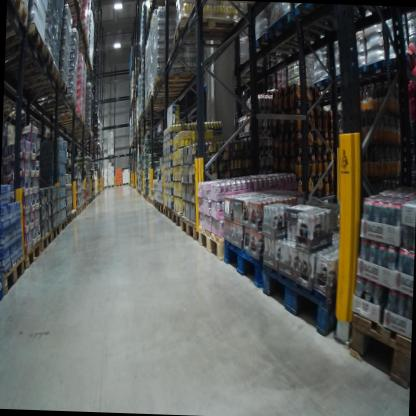pallet: (259, 234, 369, 342), (342, 297, 412, 395), (174, 7, 242, 51), (6, 17, 46, 75), (223, 238, 265, 292), (9, 42, 58, 87), (7, 64, 60, 101), (16, 76, 69, 107), (197, 223, 228, 265), (1, 252, 26, 303), (7, 0, 32, 41), (146, 85, 198, 102), (152, 71, 194, 92), (40, 97, 80, 117), (22, 238, 43, 270), (57, 0, 84, 21), (180, 215, 198, 241), (365, 57, 387, 78), (382, 50, 412, 65), (38, 229, 54, 256), (346, 60, 366, 78), (327, 72, 346, 90), (171, 209, 186, 230), (0, 272, 9, 303), (309, 74, 327, 89), (164, 203, 175, 225), (51, 223, 61, 242), (60, 216, 68, 230), (158, 199, 165, 215), (66, 212, 74, 224), (70, 208, 77, 219), (150, 197, 156, 209), (107, 182, 115, 190), (76, 205, 82, 215), (122, 181, 129, 189), (106, 153, 115, 158), (102, 184, 109, 190), (114, 183, 122, 188), (155, 199, 158, 211)
